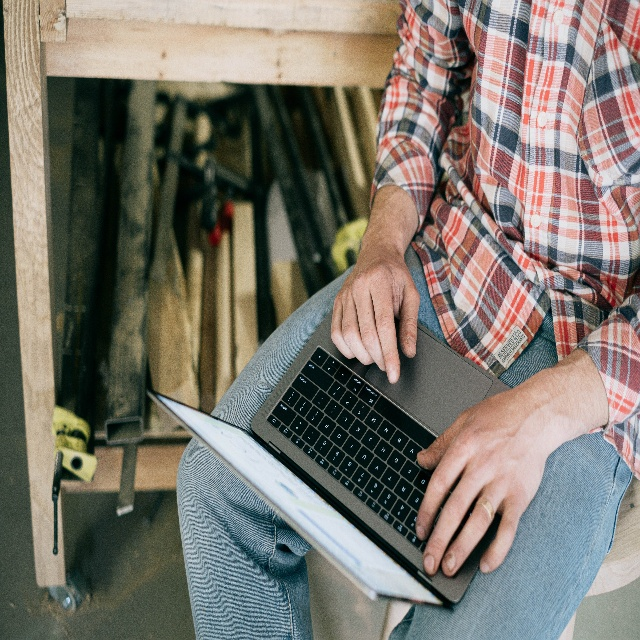Sin_guantes: (414, 374, 551, 576), (330, 250, 421, 386)
